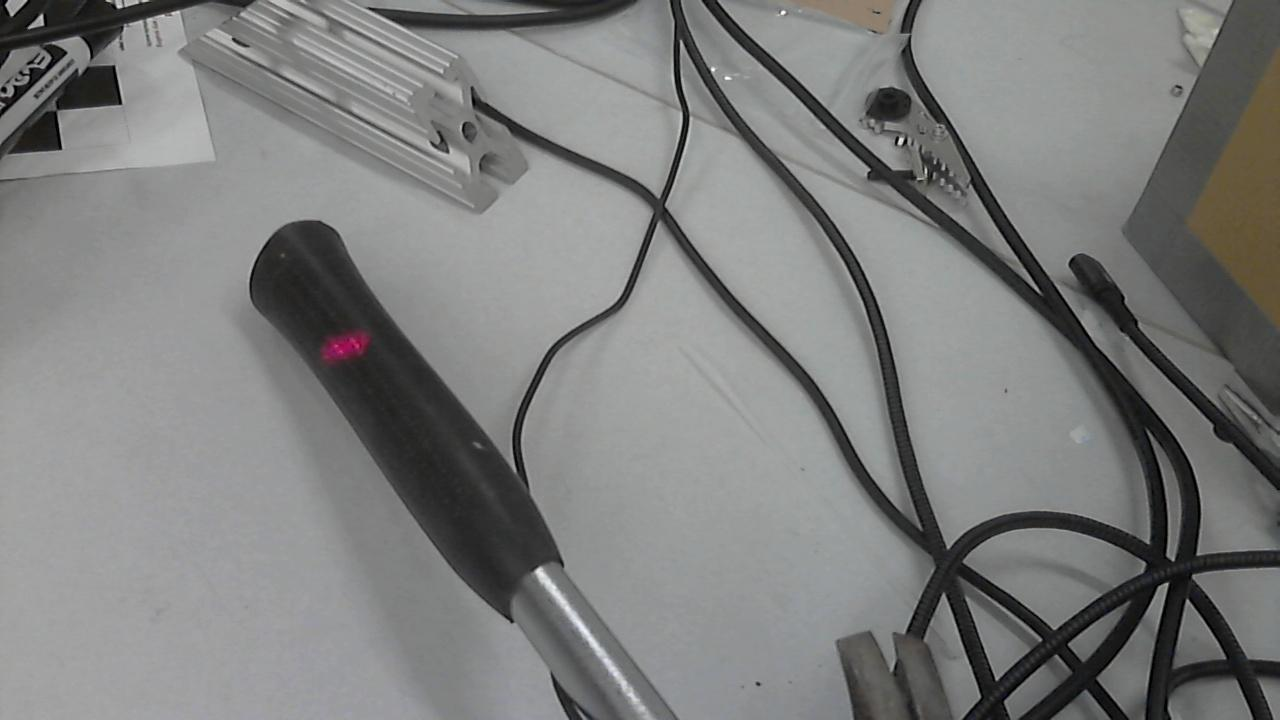Object claw hammer -Material rubber - Pdfname 2LKzx9zgCNVB: (307, 313, 386, 387)
